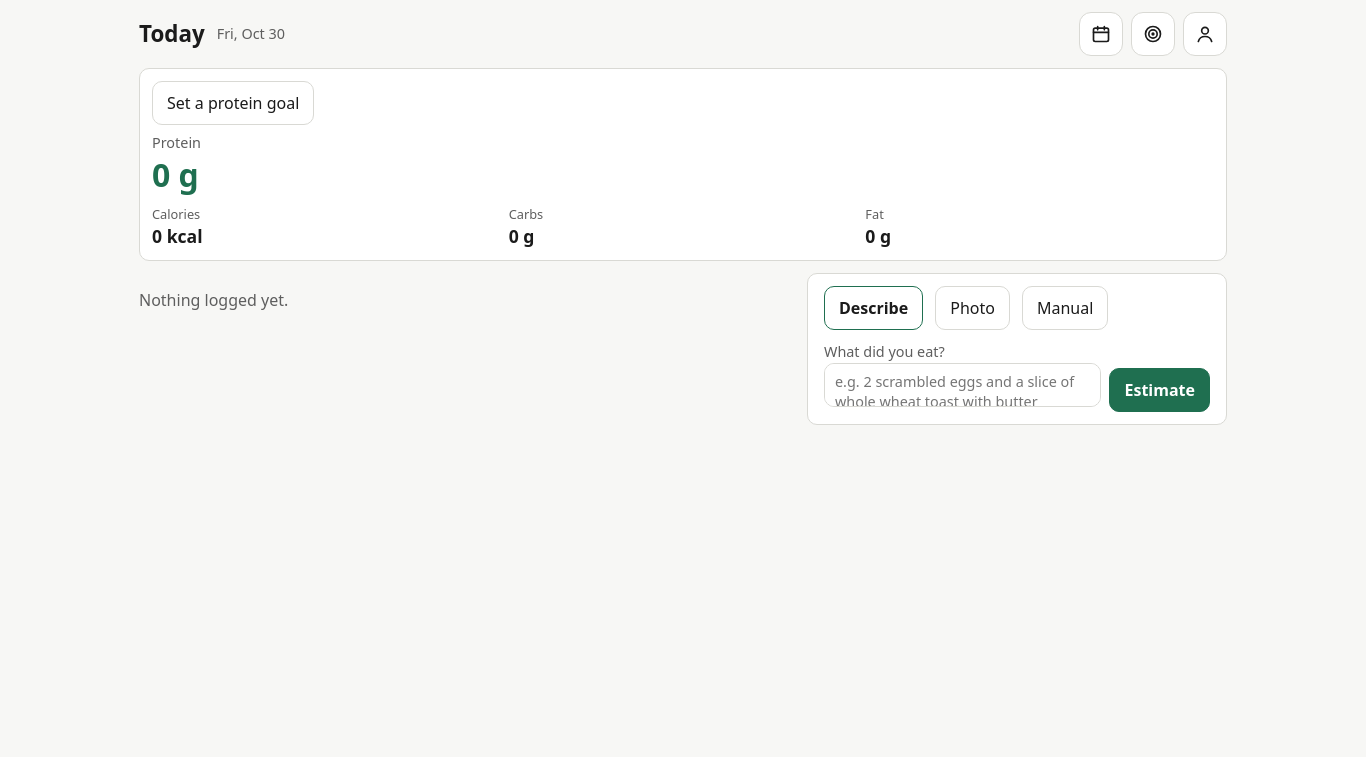
Scenario: TodayScreen › updates the totals right after a confirm
# Feature 004: described and confirmed on Today, in the composer.
Type "1 medium banana" into the text box labelled "What did you eat?" at coordinates (963, 385), box [824,363,1102,407]
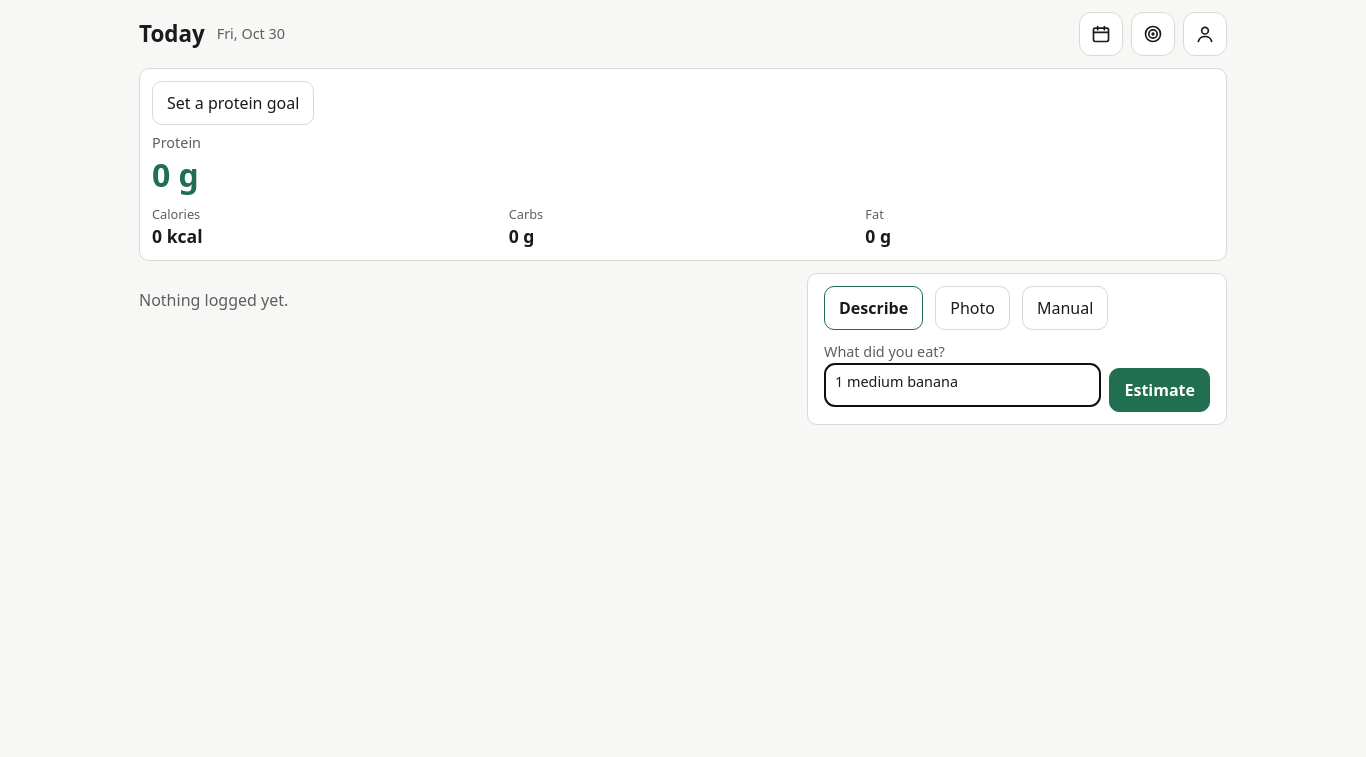
Click the button "Estimate" at coordinates (1160, 390), box [1110,368,1210,412]
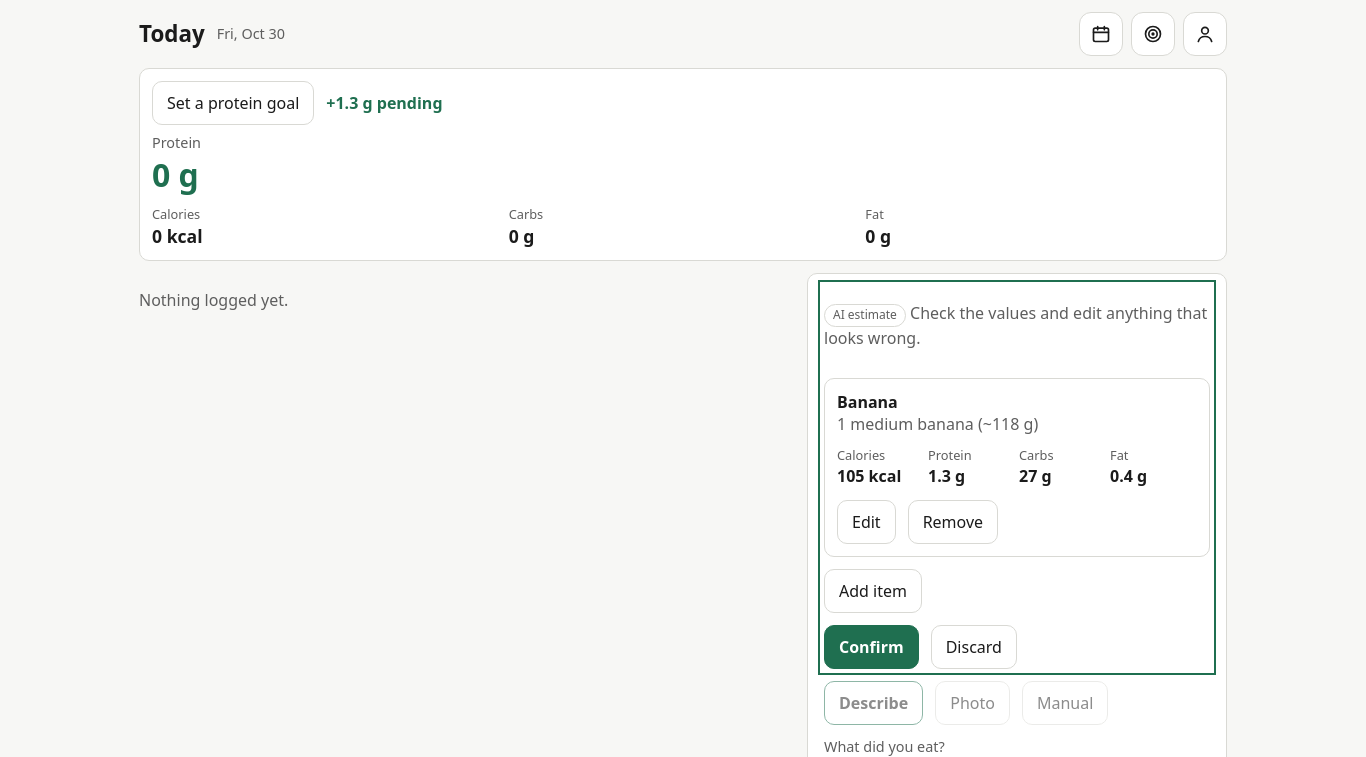
Click the button "Confirm" at coordinates (871, 647), box [824,625,919,669]
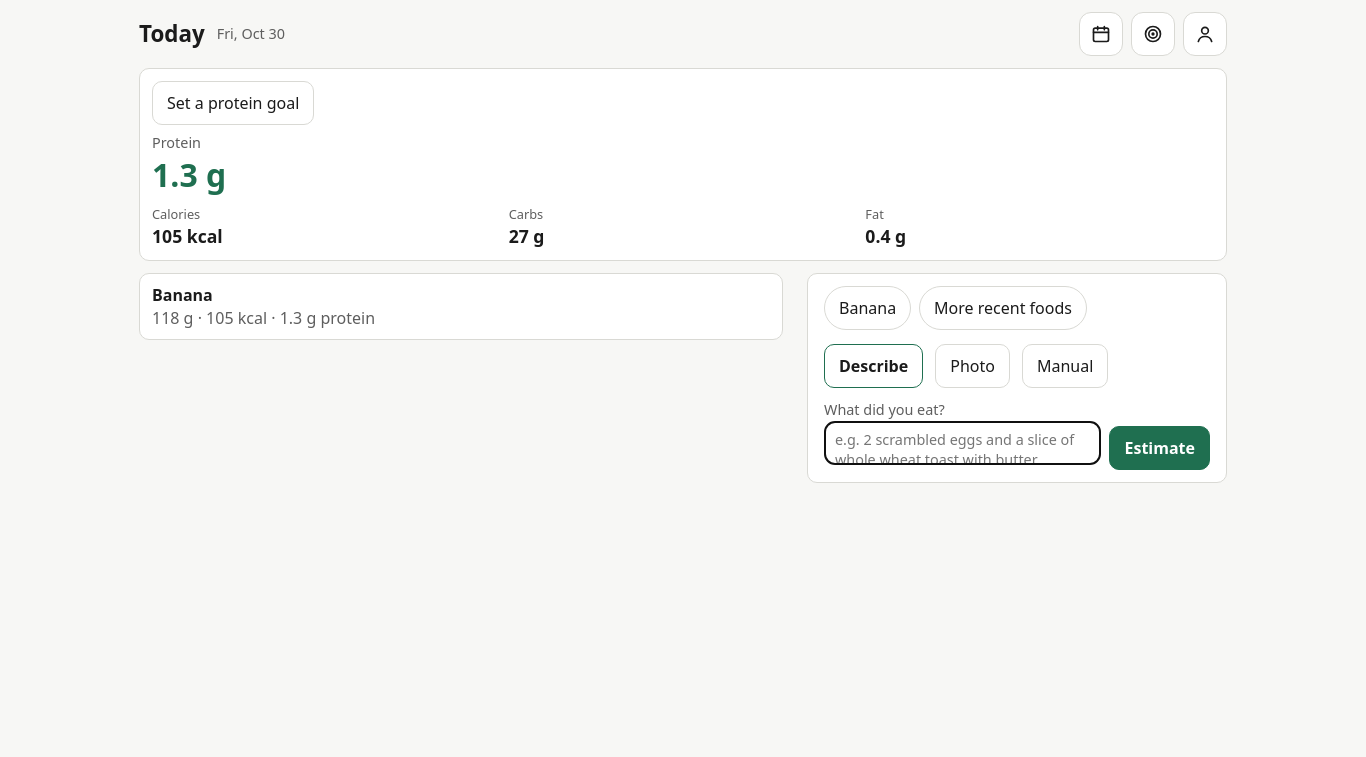
expect the text "Banana" is shown: met, box [152,284,213,307]
expect the text "105 kcal" is shown: met, box [152,224,223,248]
